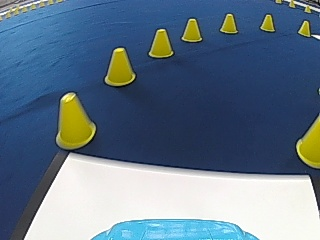cone: (54, 91, 96, 150), (104, 47, 136, 86), (296, 116, 320, 167), (148, 28, 174, 58), (181, 18, 202, 42), (220, 13, 238, 34), (260, 13, 275, 32), (298, 20, 311, 37)
